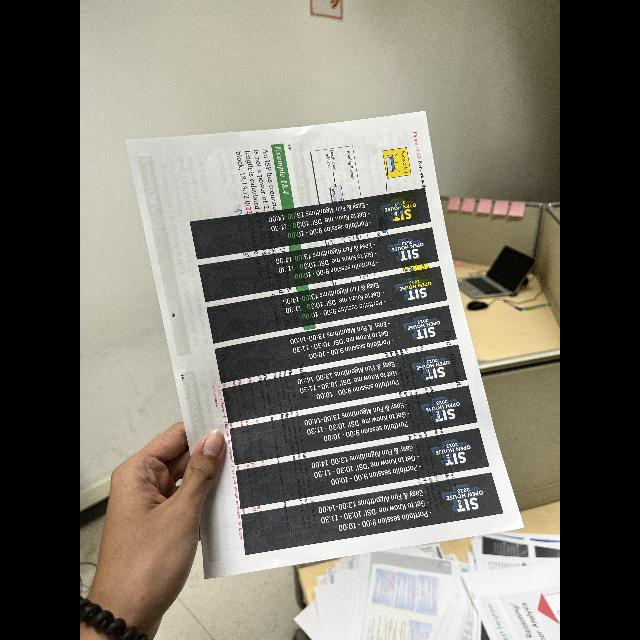reuseable_paper: (125, 112, 531, 580), (292, 530, 560, 640)
